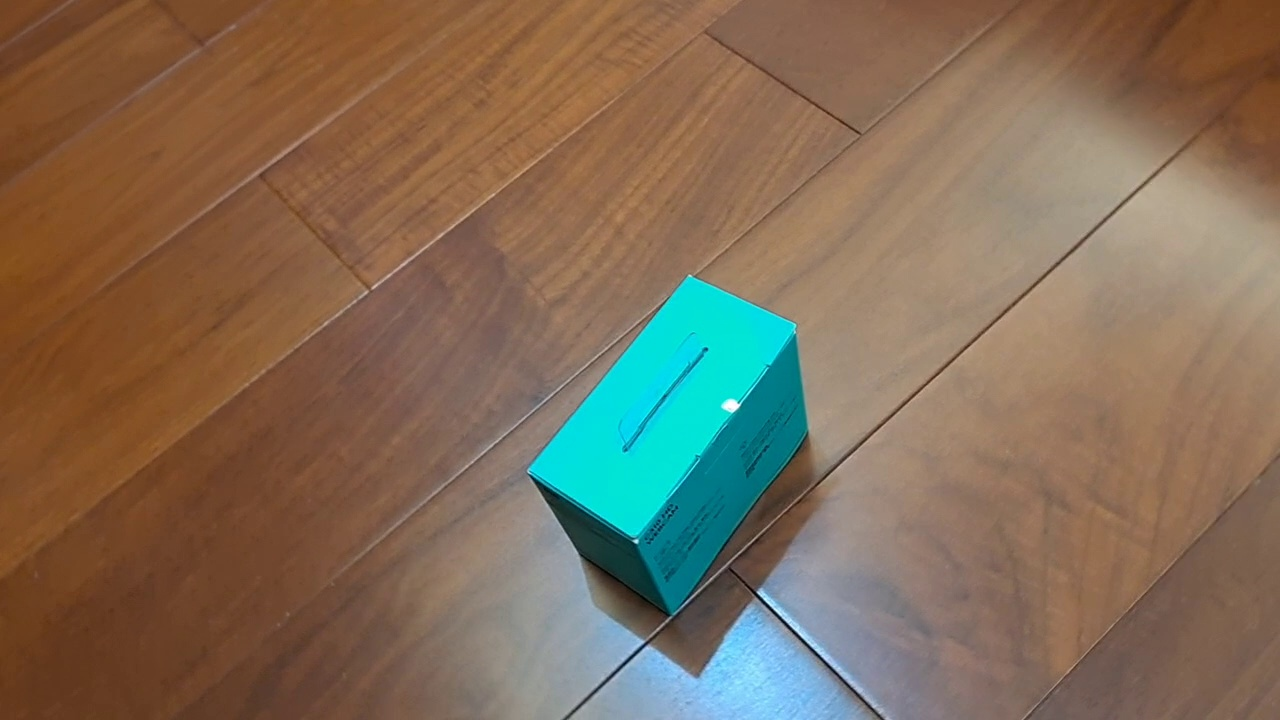webcam: (524, 271, 811, 620)
